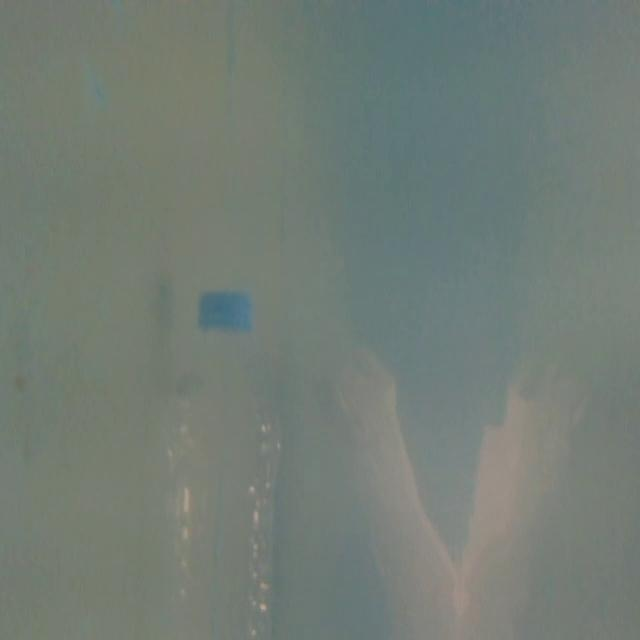plastic bags: (325, 342, 552, 640)
plastic bottle: (158, 283, 292, 638)
